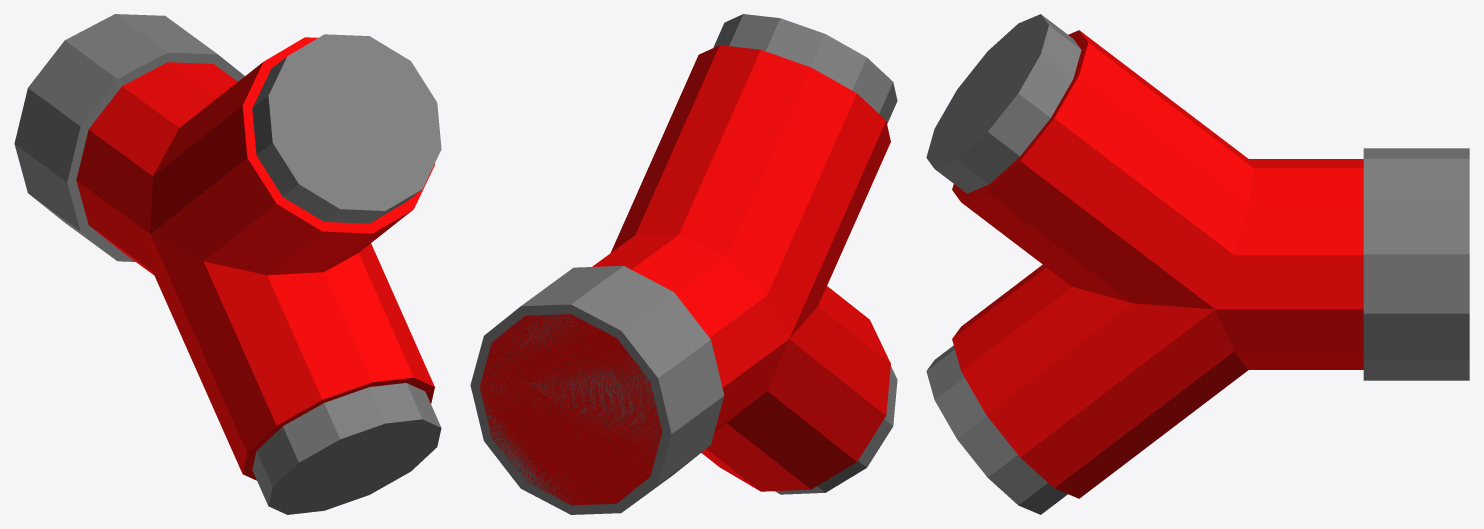
The model's file is nil_link_mesh.dae.
3 views of the same model, side by side, from view 1: azimuth 30°, elevation 25°; view 2: azimuth 150°, elevation 25°; view 3: azimuth 270°, elevation 25° (orthographic).
Visible parts, largest first — view 1: nil_link (×2); view 2: nil_link (×2); view 3: nil_link (×2).
Part boxes in pixels (x1,y1,x2,y2): nil_link (×2): (14,14,441,514); nil_link (×2): (470,14,897,514); nil_link (×2): (926,14,1469,514).
Size of the model in its own units: 0.11 by 0.2489 by 0.2562.
